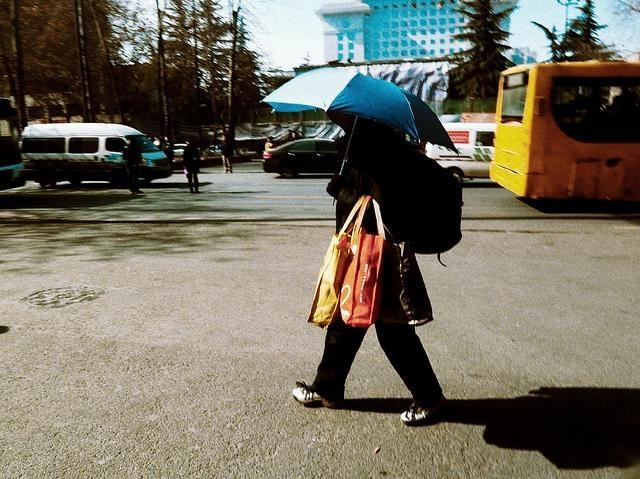bus: (488, 63, 640, 208), (17, 119, 178, 188)
car: (19, 122, 175, 191), (425, 123, 497, 184), (262, 138, 340, 178), (234, 127, 265, 148), (172, 144, 188, 156)
